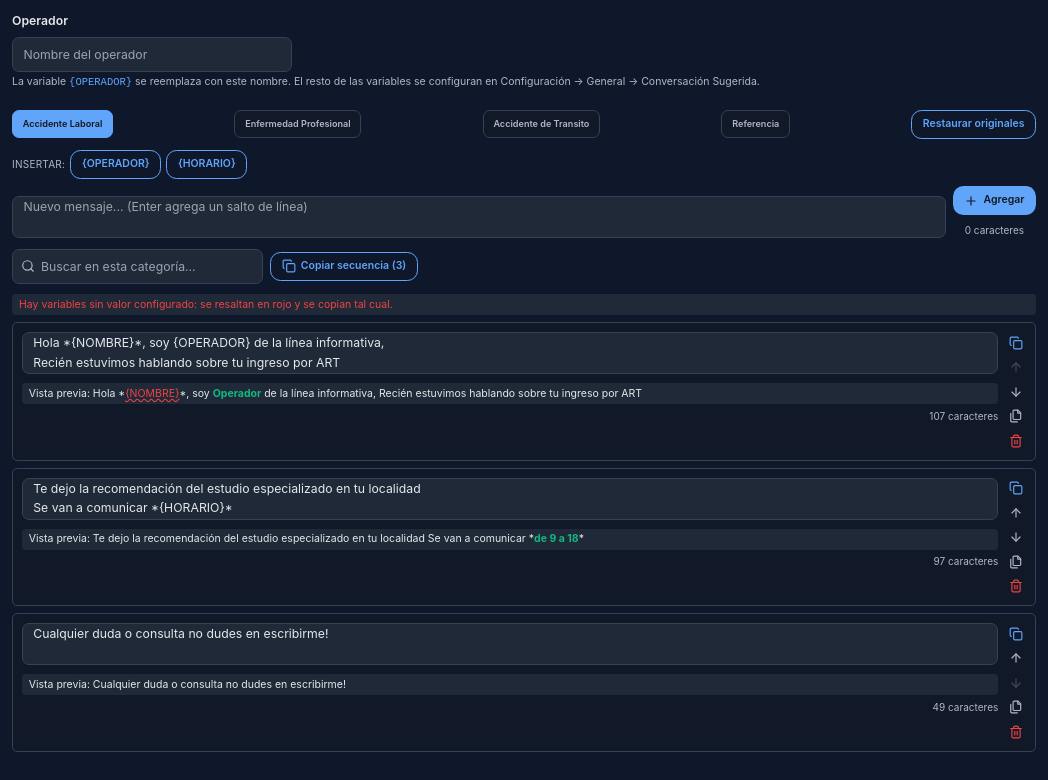
it: ConversacionesSugeridasView (1.9.6) › el chip de una variable configurable inserta su llave
The width and height of the screenshot is (1048, 780).
Click the button "{HORARIO}": [207, 164] box [166,150,247,179]
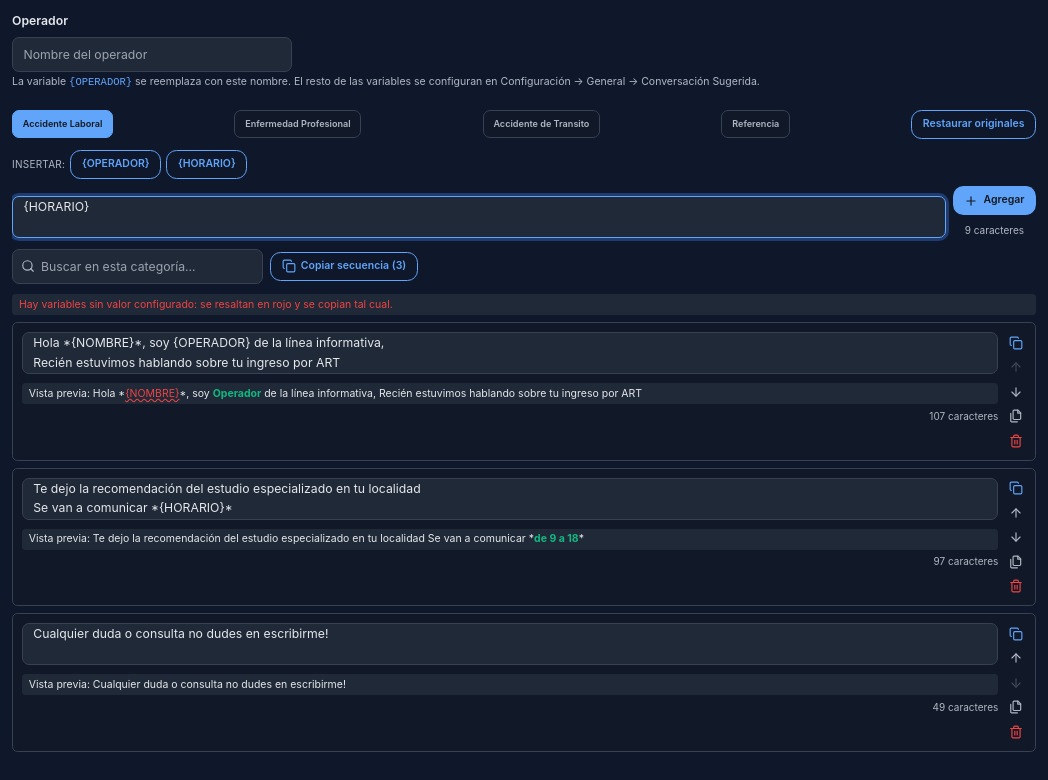
expect the 1st text box with placeholder "Nuevo mensaje... (Enter agrega un salto de línea)" holds "{HORARIO}": met, box [12,196,946,238]
